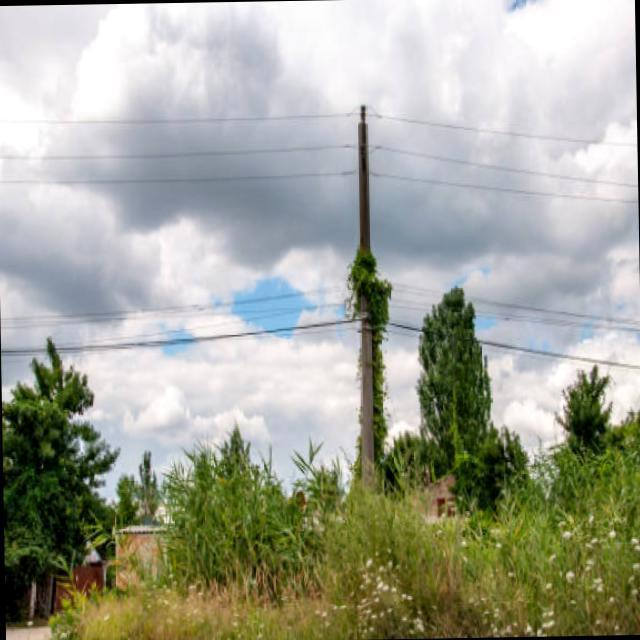light_pole: (345, 218, 397, 466)
